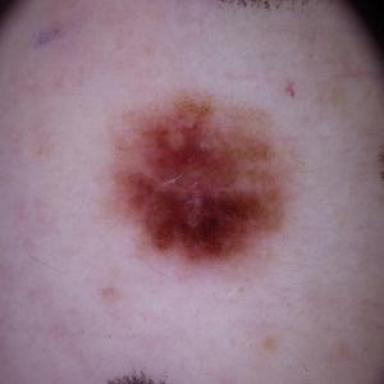Melanoma: (115, 93, 284, 263)
